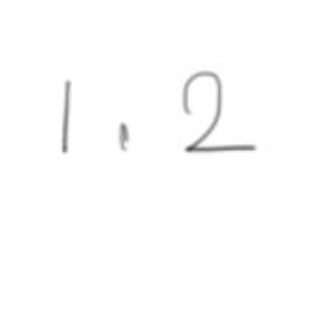.: (110, 116, 139, 159)
1: (58, 76, 73, 153)
2: (177, 66, 260, 153)
